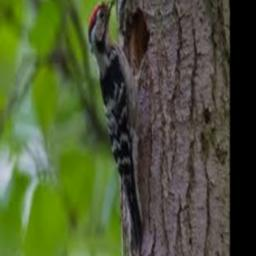Woodpecker: (89, 0, 149, 255)
